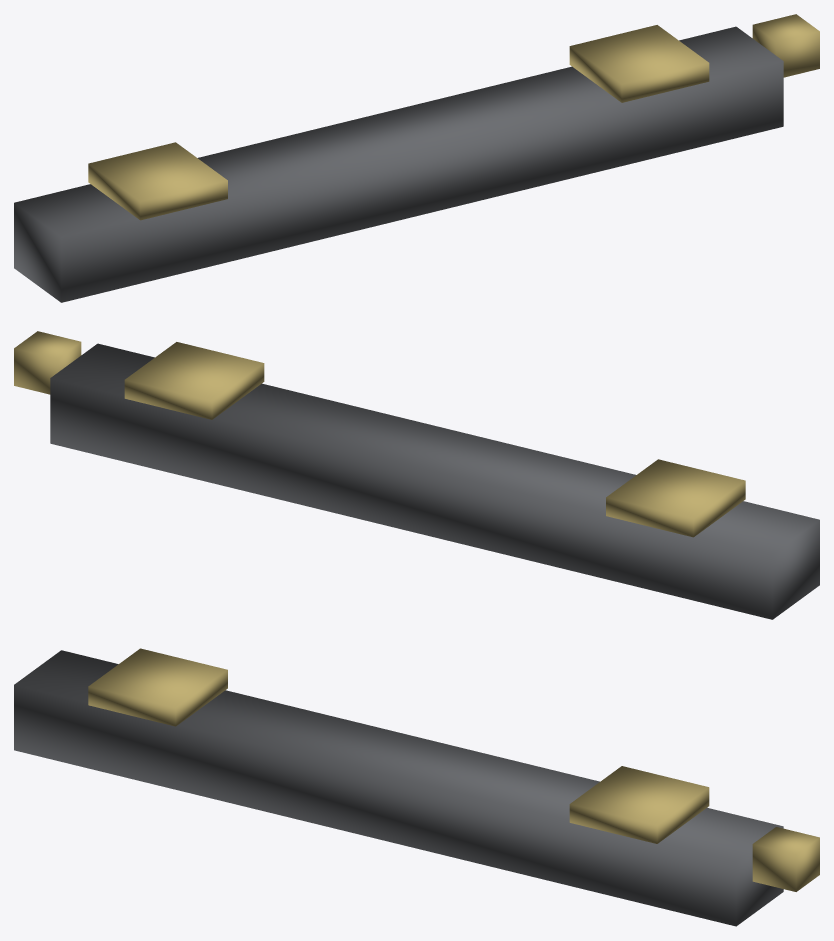
File: wheel_stop_02.glb
3 views of the same model, one above another, from view 1: azimuth 30°, elevation 25°; view 2: azimuth 150°, elevation 25°; view 3: azimuth 330°, elevation 25° (orthographic).
Visible parts, largest first — view 1: world; view 2: world; view 3: world.
Boxes of the visible parts, <box> form: world: <box>14,14,819,302</box>; world: <box>14,331,819,619</box>; world: <box>14,648,819,926</box>.
Size of the model in its own units: 1.69 by 0.1764 by 0.198.
